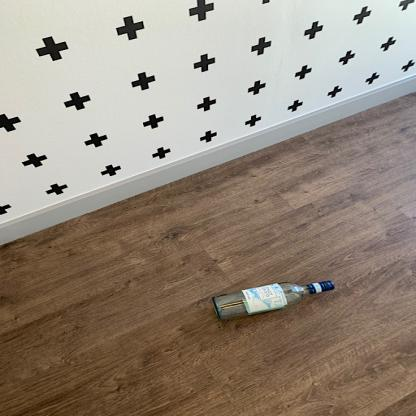trash: (210, 276, 338, 322)
